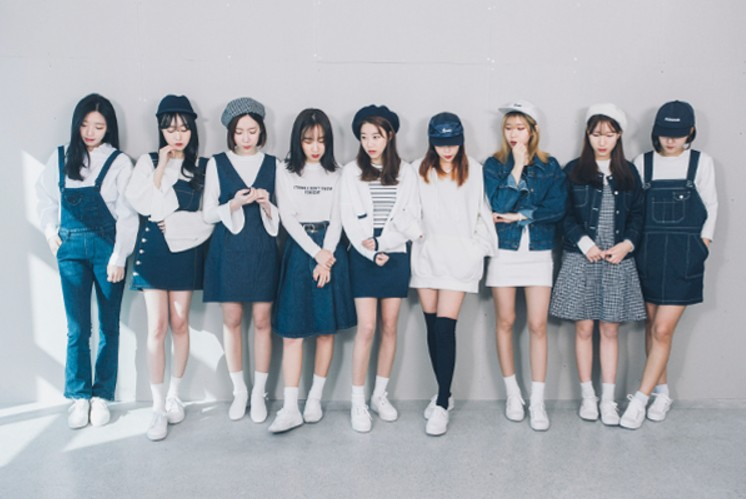people: (41, 82, 130, 430), (332, 101, 402, 433), (398, 108, 469, 432), (489, 99, 555, 444), (569, 109, 638, 435), (644, 102, 709, 440), (280, 104, 341, 441), (142, 96, 199, 440), (217, 101, 276, 430)
